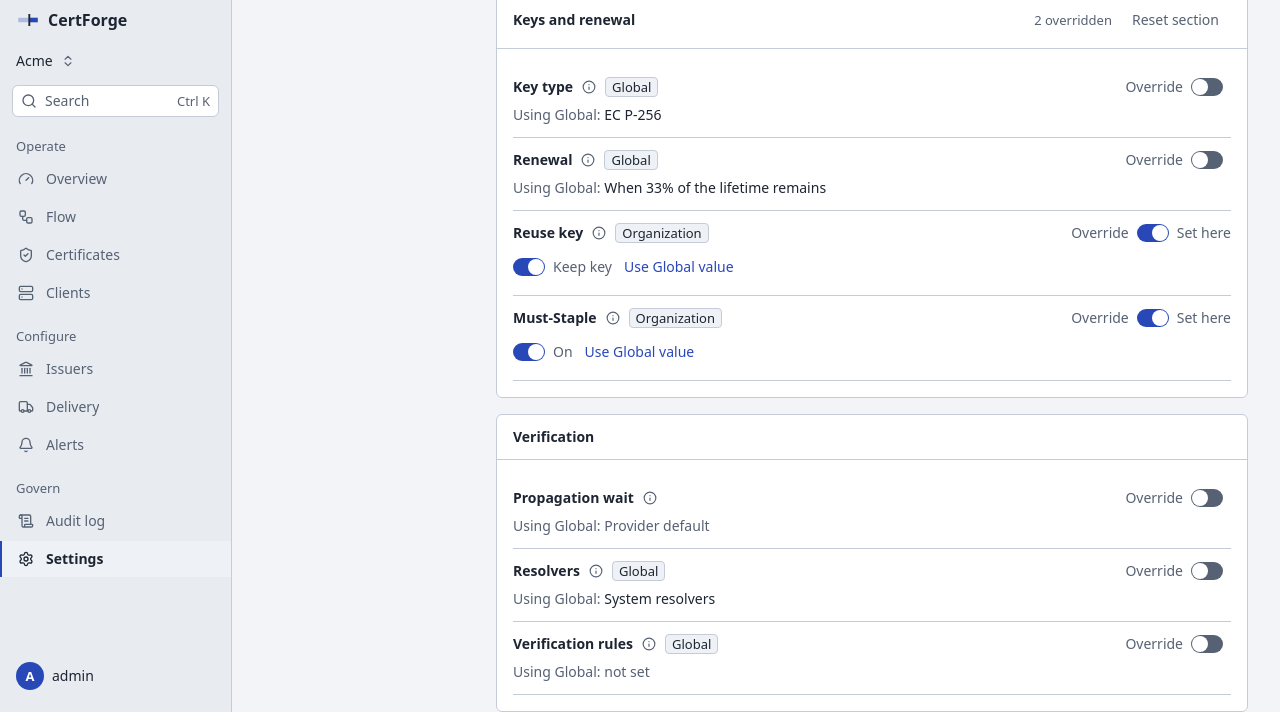
resets an org override: PUT sends null and keeps its sibling, badge settles to the refetched effective source
(page scrolled)
Check: the switch named "Override Must-Staple" is checked, box left=1137, top=309, right=1169, bottom=327
Click the button "Use Global value" below "Must-Staple": (639, 352) left=585, top=336, right=694, bottom=368
(page scrolled)
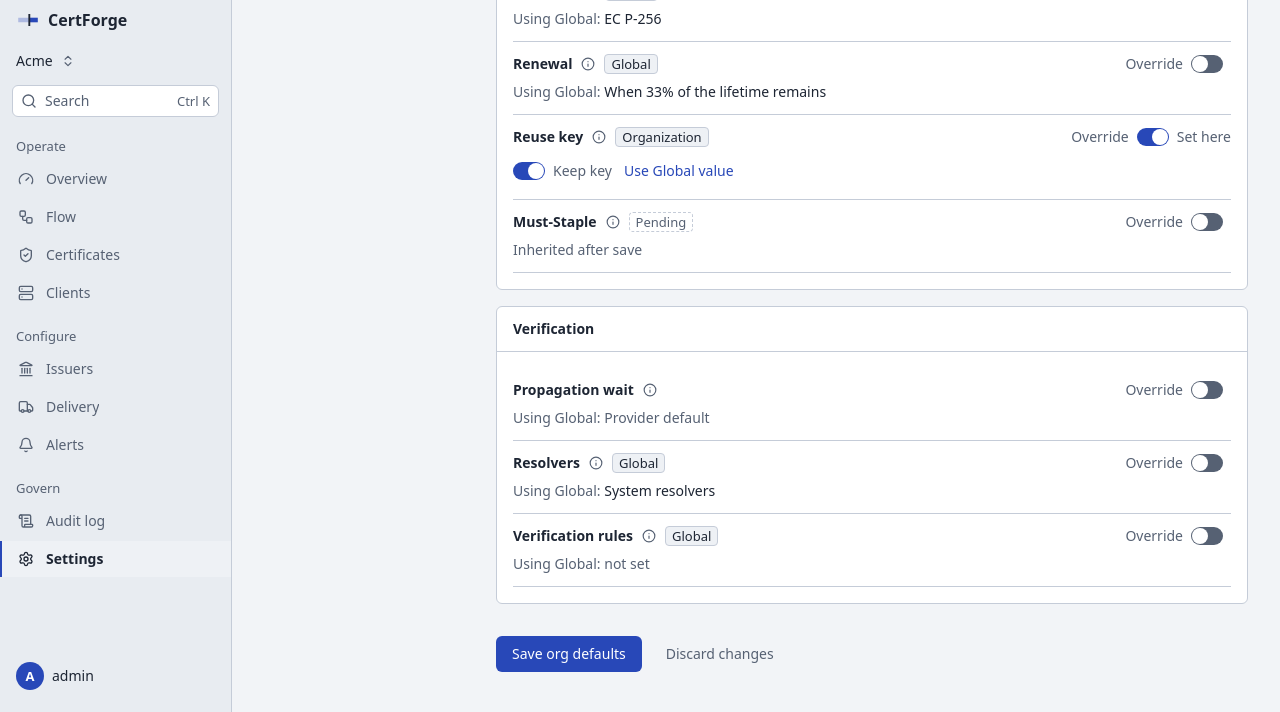
Check: the text "Pending" is shown, box left=629, top=212, right=693, bottom=232
Check: the text "Inherited after save" is shown, box left=513, top=240, right=642, bottom=259
Click the button "Save org defaults": (569, 654) left=496, top=636, right=642, bottom=672
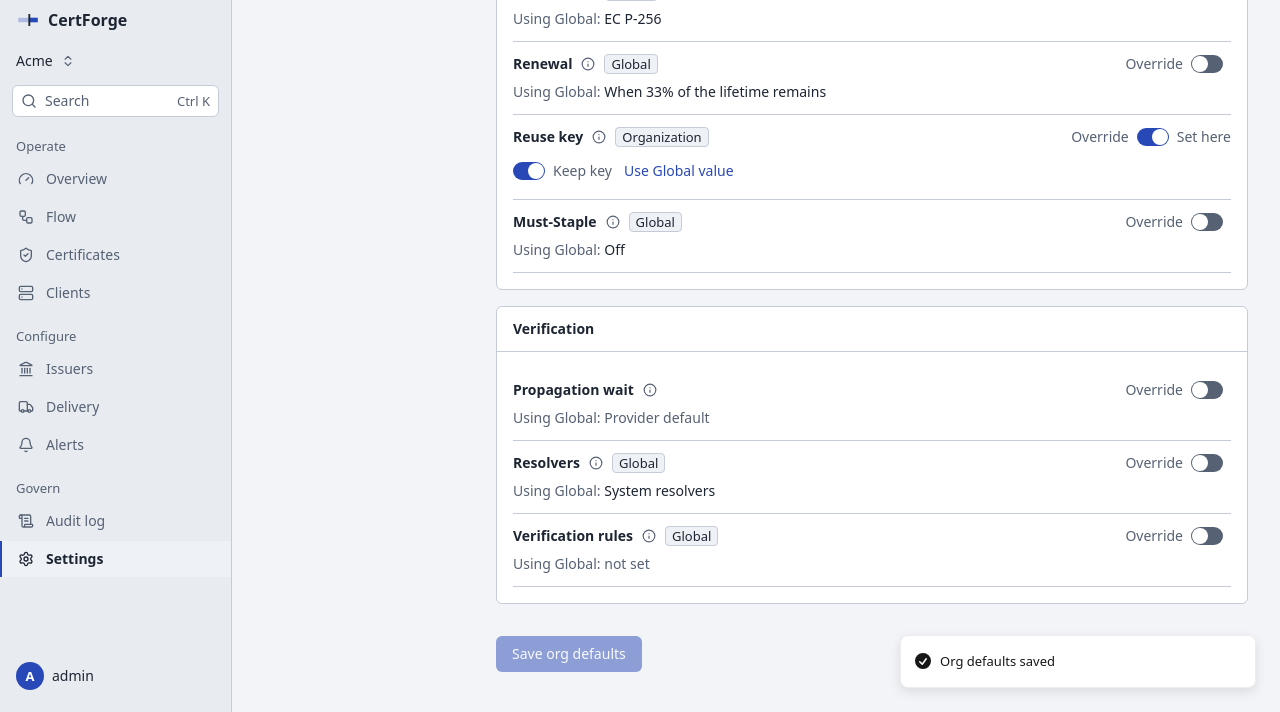
Check: the button "Global" next to "Must-Staple" is shown, box left=629, top=212, right=682, bottom=232
